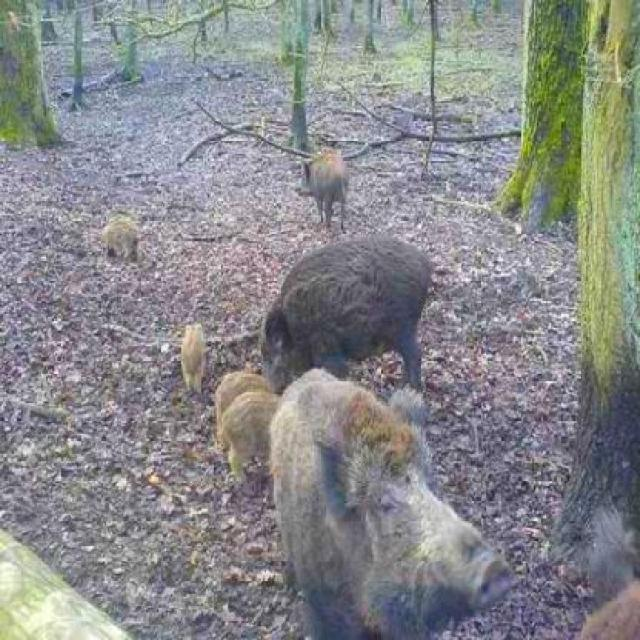Boar: (235, 341, 516, 640), (191, 198, 483, 388)
